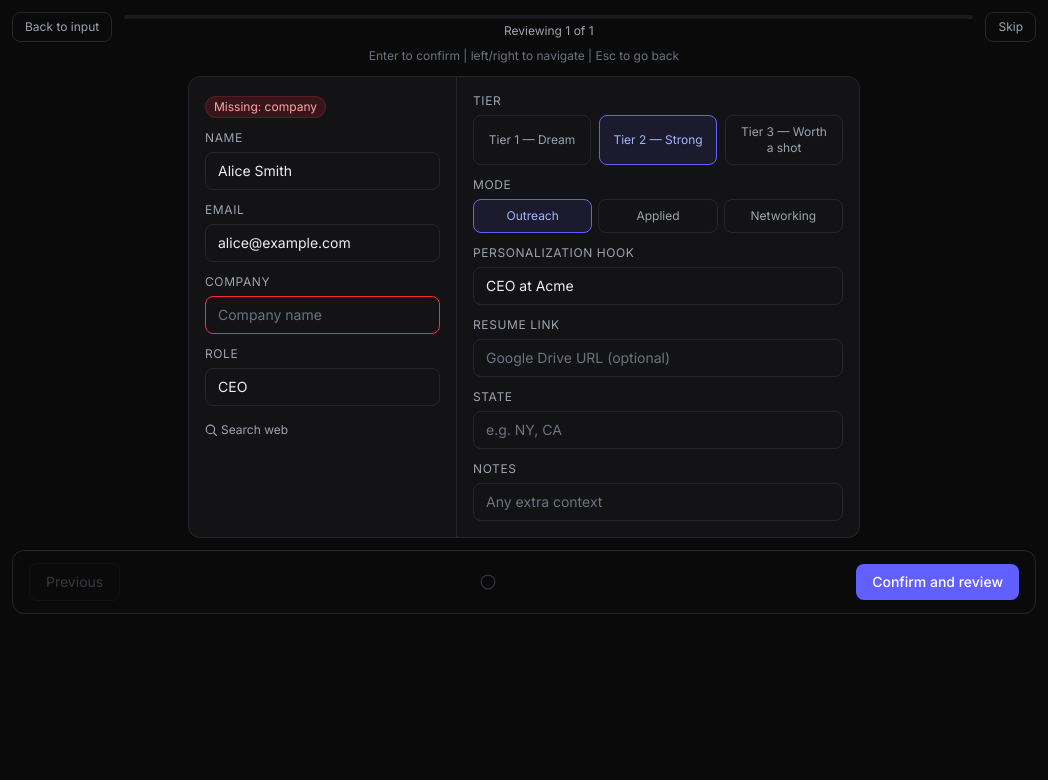
Test case: ReviewFlow — validation › blocks confirm with inline error when missing required field is still empty
Click the button "Confirm and review": (938, 582) left=856, top=564, right=1019, bottom=600
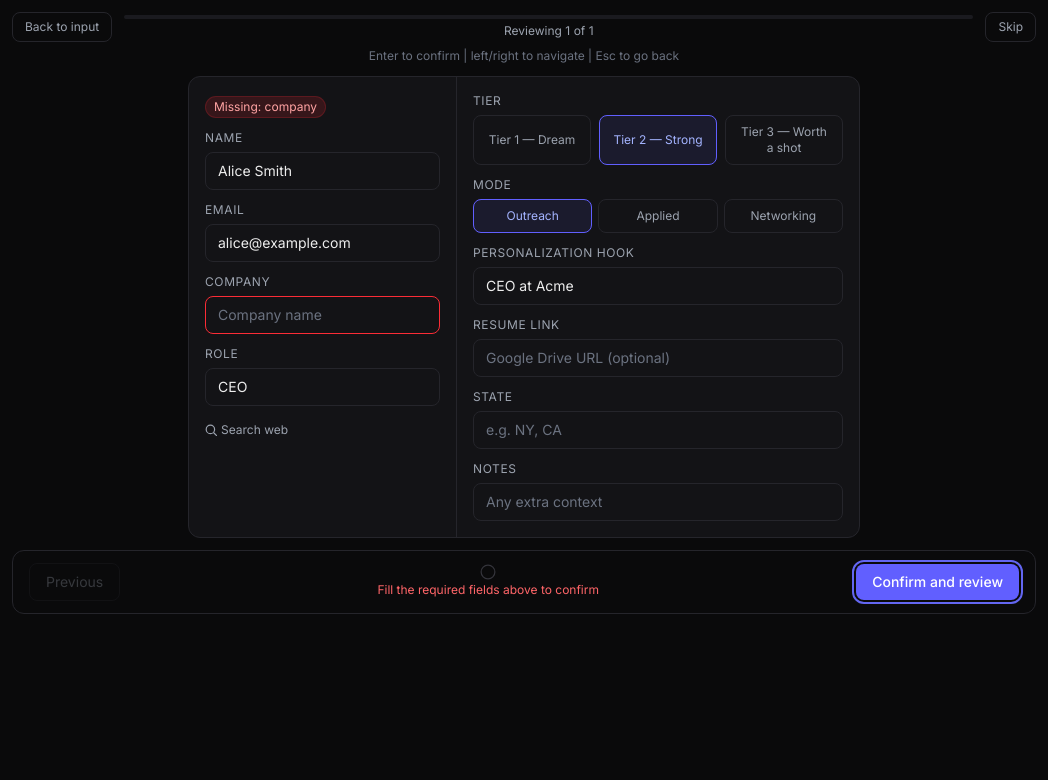
Expected: the text "Fill the required fields above to confirm" is shown, left=377, top=582, right=599, bottom=598
